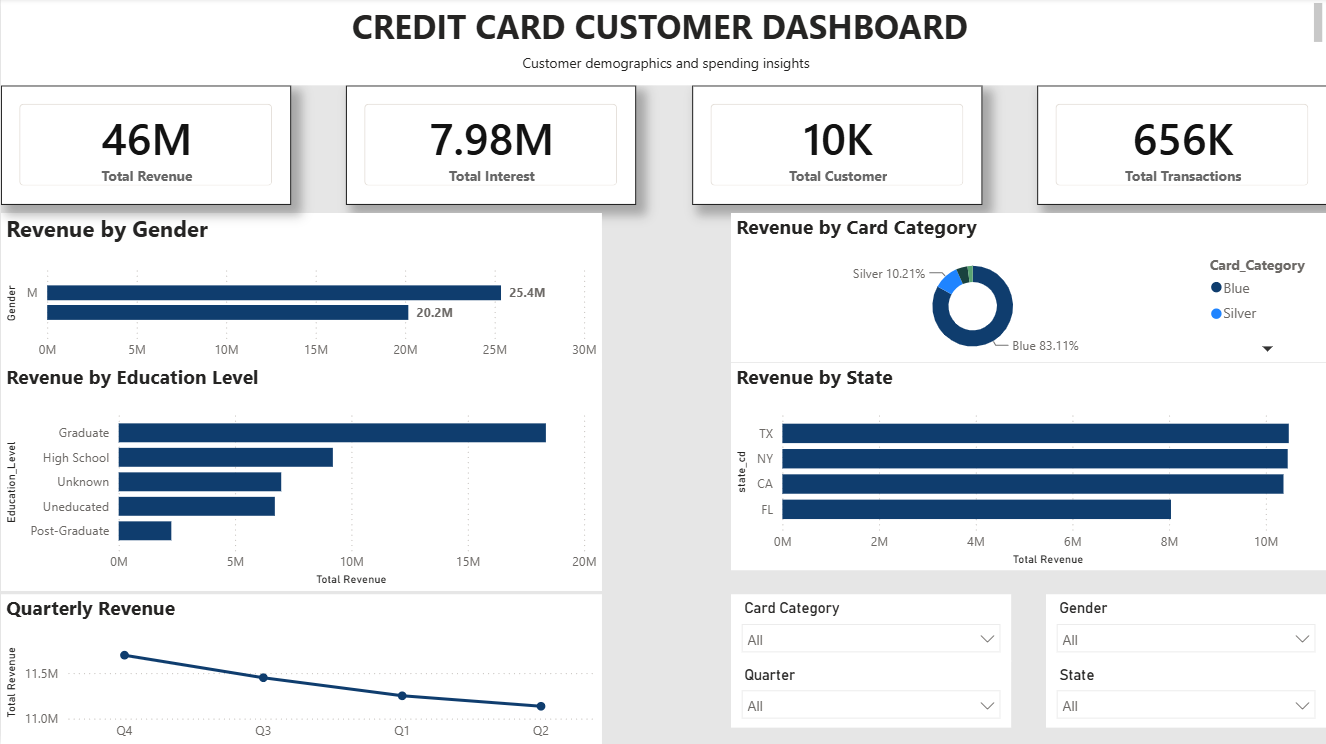

This screenshot's page, from the dashboard's own definition file:
{"tool":"powerbi","page":{"name":"Customer Dashboard","canvas":[1280,720],"ordinal":0},"visuals":[{"type":"cardVisual","fields":{"Data":["Credit_Card_Final.Interest"]},"box":[333.3,84.6,280,115],"z":0},{"type":"cardVisual","fields":{"Data":["Credit_Card_Final.Customer_Count"]},"box":[666.7,84.6,280,115],"z":1000},{"type":"cardVisual","fields":{"Data":["Credit_Card_Final.Transaction_Count"]},"box":[1000,84.6,280,115],"z":2000},{"type":"clusteredBarChart","title":"Revenue by Gender","fields":{"Y":["Credit_Card_Final.Revenue"],"Category":["Customer_Final.Gender"]},"box":[0,208,580,150],"z":3000},{"type":"cardVisual","fields":{"Data":["Credit_Card_Final.Revenue"]},"box":[0,84.6,280,115],"z":4000},{"type":"donutChart","title":"Revenue by Card Category","fields":{"Category":["Credit_Card_Final.Card_Category"],"Y":["Credit_Card_Final.Revenue"]},"box":[704,208,576,144],"z":5000},{"type":"clusteredBarChart","title":"Revenue by Education Level","fields":{"Y":["Credit_Card_Final.Revenue"],"Category":["Customer_Final.Education_Level"]},"box":[0,352,580,220],"z":6000},{"type":"clusteredBarChart","title":"Revenue by State","fields":{"Y":["Credit_Card_Final.Revenue"],"Category":["Customer_Final.state_cd"]},"box":[704,352,580,200],"z":7000},{"type":"lineChart","title":"Quarterly Revenue","fields":{"Category":["Credit_Card_Final.Qtr"],"Y":["Credit_Card_Final.Revenue"]},"box":[0,576,580,150],"z":8000},{"type":"textbox","box":[0,0,1280,50],"z":9000},{"type":"textbox","box":[0,48,1280,36],"z":10000},{"type":"slicer","fields":{"Values":["Customer_Final.Gender"]},"box":[1008,576,270,65],"z":11000},{"type":"slicer","fields":{"Values":["Customer_Final.state_cd"]},"box":[1008,640,270,65],"z":12000},{"type":"slicer","fields":{"Values":["Credit_Card_Final.Card_Category"]},"box":[704,576,270,65],"z":13000},{"type":"slicer","fields":{"Values":["Credit_Card_Final.Qtr"]},"box":[704,640,270,65],"z":14000}]}

Visuals, with their boxes in screenshot pixels (x1, y1, x2, y2), scaled from the page's 1280x720 canvas onto the 1326x744 screenshot:
cardVisual - Credit_Card_Final.Interest: BBox(345, 87, 635, 206)
cardVisual - Credit_Card_Final.Customer_Count: BBox(691, 87, 981, 206)
cardVisual - Credit_Card_Final.Transaction_Count: BBox(1036, 87, 1325, 206)
"Revenue by Gender" clusteredBarChart: BBox(0, 215, 601, 370)
cardVisual - Credit_Card_Final.Revenue: BBox(0, 87, 290, 206)
"Revenue by Card Category" donutChart: BBox(729, 215, 1325, 364)
"Revenue by Education Level" clusteredBarChart: BBox(0, 364, 601, 591)
"Revenue by State" clusteredBarChart: BBox(729, 364, 1325, 570)
"Quarterly Revenue" lineChart: BBox(0, 595, 601, 743)
textbox: BBox(0, 0, 1325, 52)
textbox: BBox(0, 50, 1325, 87)
slicer - Customer_Final.Gender: BBox(1044, 595, 1324, 662)
slicer - Customer_Final.state_cd: BBox(1044, 661, 1324, 729)
slicer - Credit_Card_Final.Card_Category: BBox(729, 595, 1009, 662)
slicer - Credit_Card_Final.Qtr: BBox(729, 661, 1009, 729)
